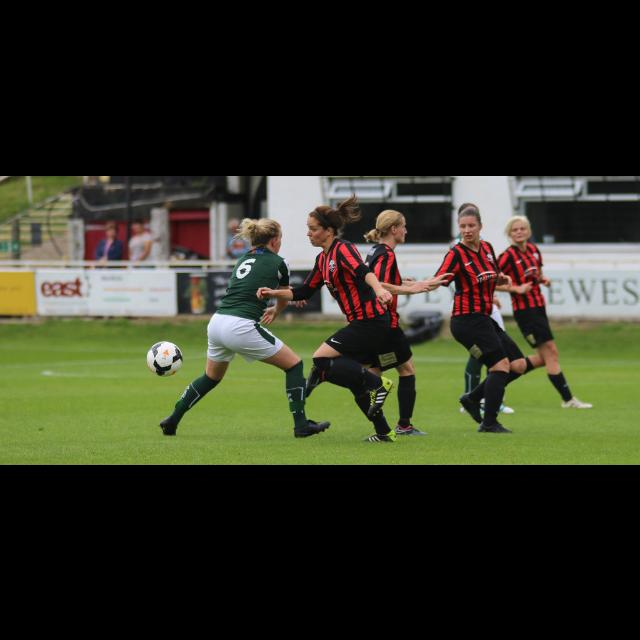Football: (143, 340, 184, 376)
